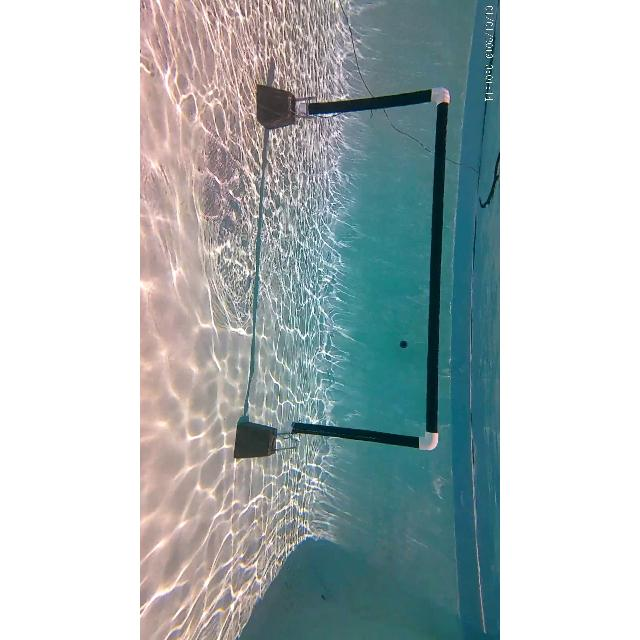prequal gate: (282, 86, 450, 450)
prequal gate leg l: (284, 87, 452, 117)
prequal gate leg r: (257, 415, 443, 451)
